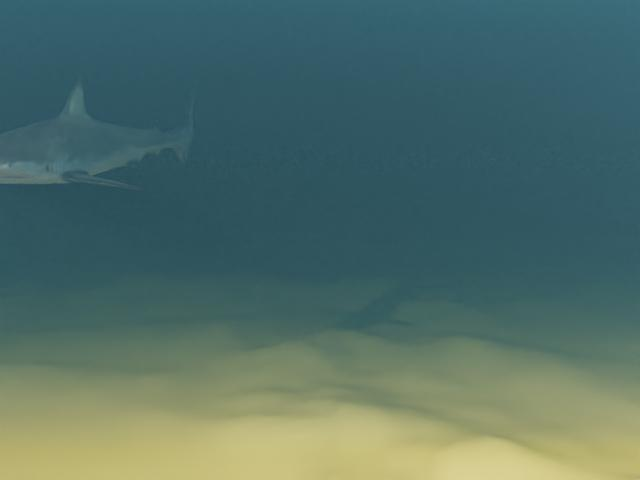Carribean Shark.001: (0, 79, 196, 190)
